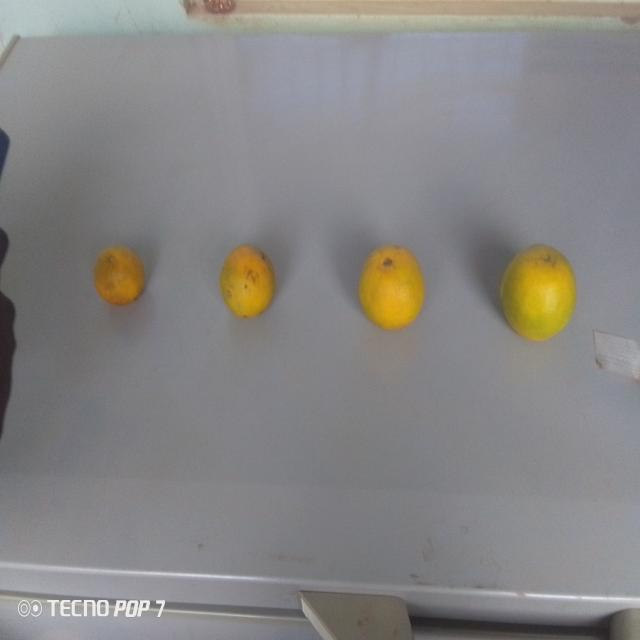Ripe orange: (491, 241, 577, 354), (361, 242, 428, 337), (215, 234, 279, 322), (91, 240, 147, 314)
